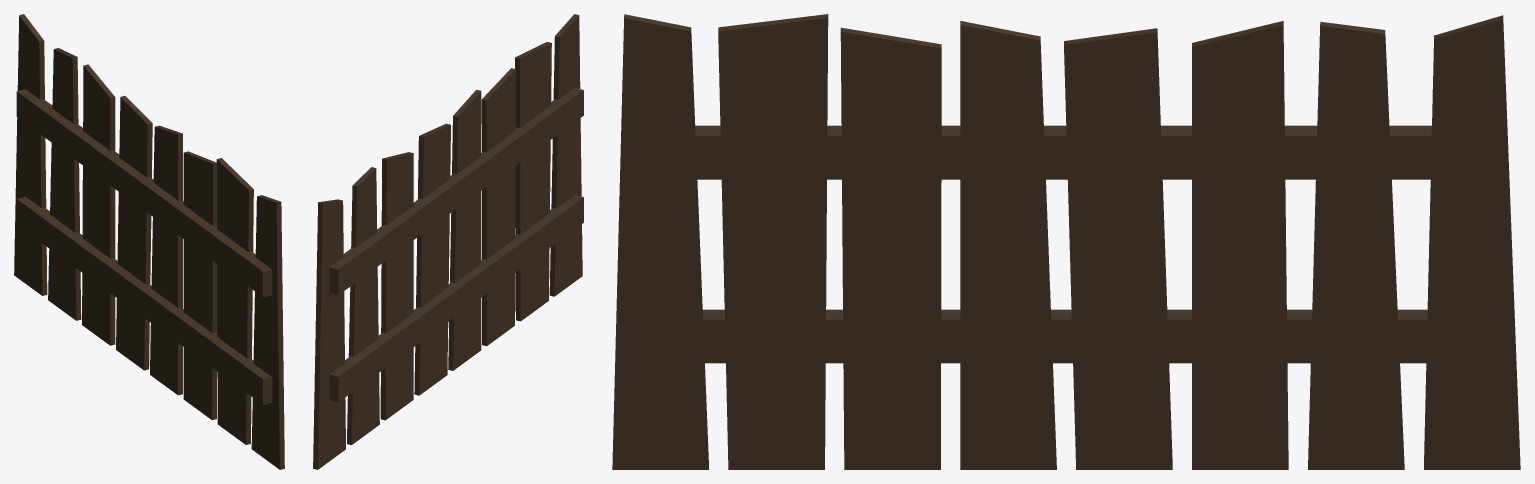
File: Holzzaun.fbx
The picture shows the model from 3 angles, left to right: view 1: azimuth 30°, elevation 25°; view 2: azimuth 150°, elevation 25°; view 3: azimuth 270°, elevation 25°; orthographic projection. The views are drawn at different scales.
Visible parts, largest first — view 1: Cube, Cube.001; view 2: Cube, Cube.001; view 3: Cube, Cube.001.
Boxes of the visible parts, x1,y1,x2,y2 form: Cube: (14,14,284,469); Cube.001: (16,89,272,404); Cube: (313,14,582,469); Cube.001: (329,88,583,402); Cube: (612,14,1520,469); Cube.001: (695,125,1431,363).
Size of the model in its own units: 11.39 by 206 by 376.
